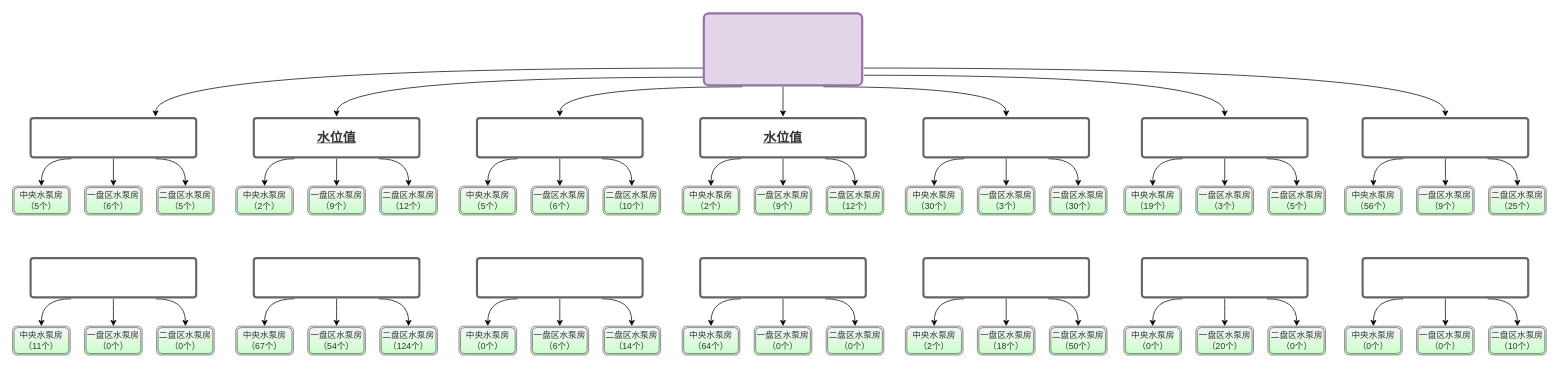
The diagram is 1559 pixels wide and 368 high, and some of its shapes have lost their labels. The shapes that lost their labels are listed below. From the top down, each one's centre as x and y in pixels, then its label:
the point at 782,49: 智能供排水数据
the point at 113,137: 泵运行状态
the point at 559,137: 电流相关
the point at 1006,137: 温压相关
the point at 1224,137: 真空报警检修
the point at 1445,137: 运行水泵故障
the point at 113,277: 流量及高开
the point at 336,277: 闸阀
the point at 559,277: 球阀
the point at 783,277: 气阀
the point at 1006,277: 水阀及水泵信息
the point at 1224,277: 公用系统
the point at 1445,277: 公共点
